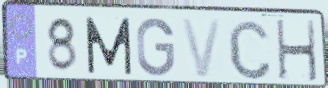8: (45, 16, 79, 75)
C: (226, 17, 274, 82)
G: (135, 17, 177, 79)
H: (273, 18, 320, 84)
M: (83, 15, 135, 76)
V: (179, 16, 224, 80)
